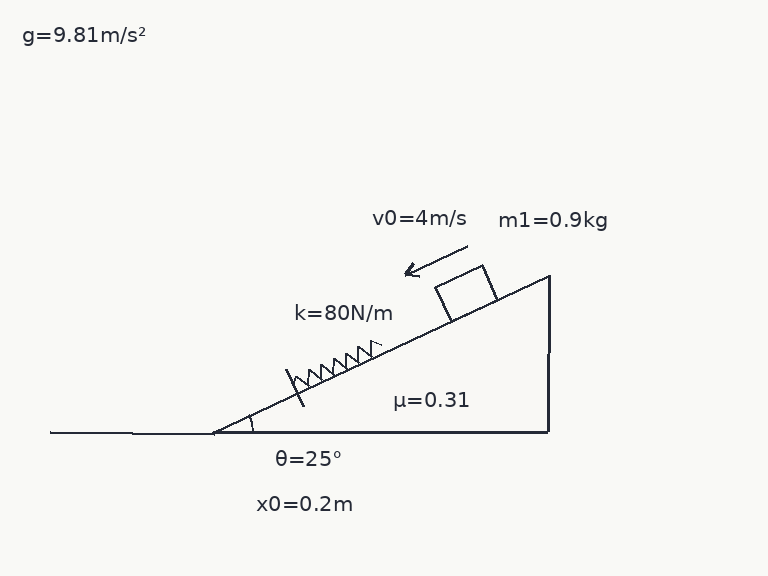block: (434, 263, 500, 323)
ramp: (211, 274, 550, 434)
spring: (291, 339, 382, 387)
